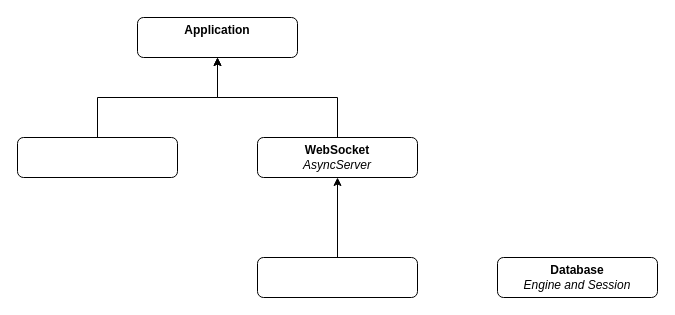
Some shapes in this 675 by 315 pixel diagram are drawn without their labels. The centre of each missing label's shape, as x and y in pixels:
"API REST FastAPI" belongs at [97,157].
"Repository Redis or FakeRedis" belongs at [337,277].
